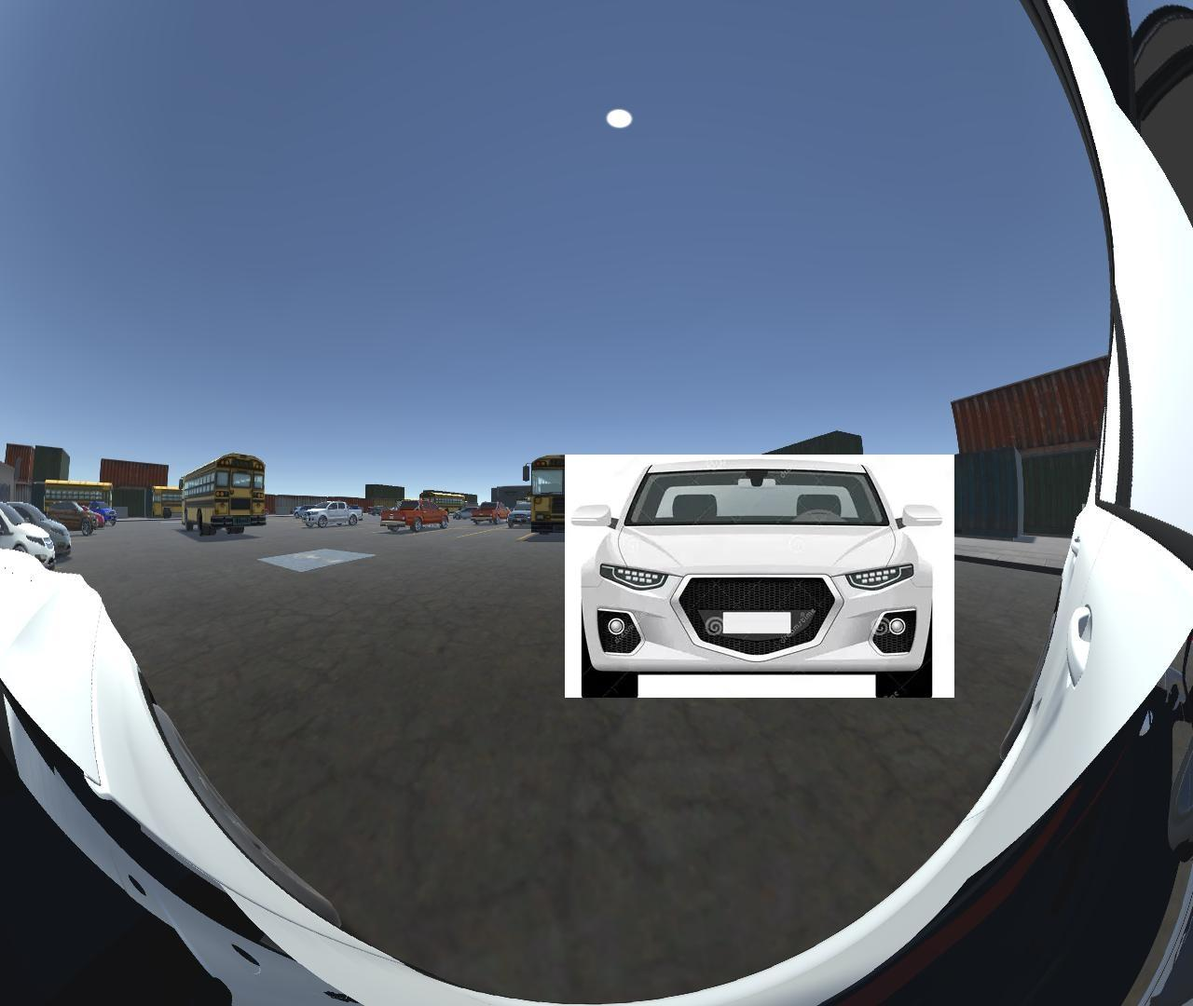Car: (561, 453, 954, 693)
